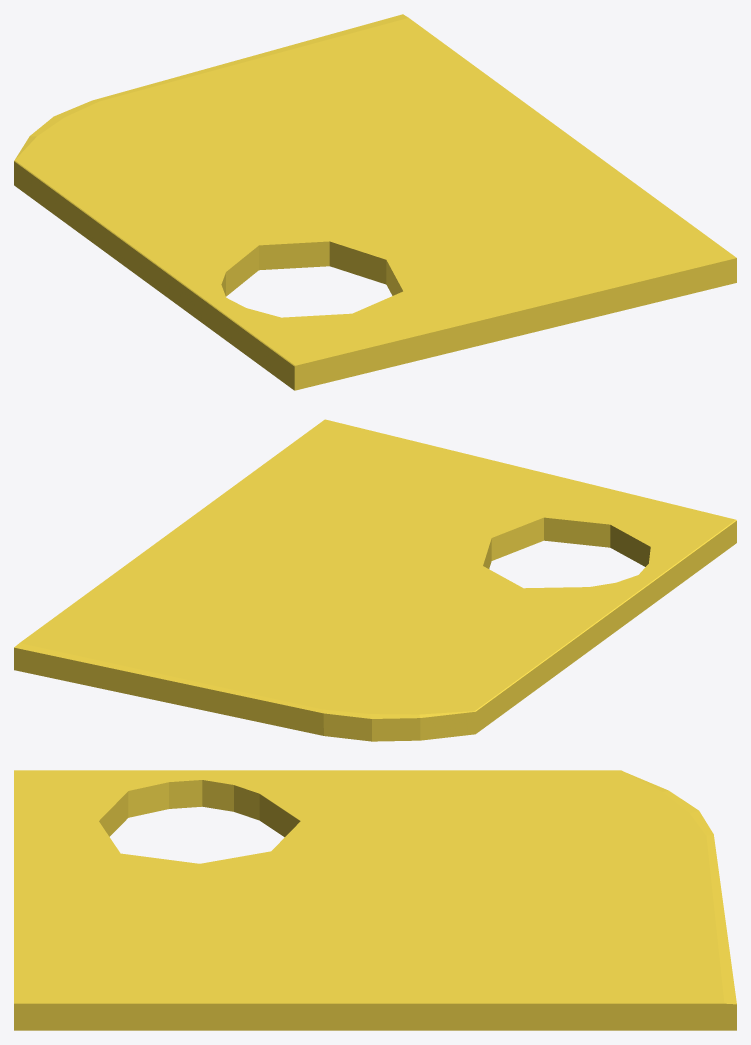
The model's file is gnd_yellow_02.fbx.
3 views of the same model, one above another, from view 1: azimuth 30°, elevation 25°; view 2: azimuth 150°, elevation 25°; view 3: azimuth 270°, elevation 25° (orthographic). The views are drawn at different scales.
Parts seen in each view (by area): view 1: gnd_yellow_02; view 2: gnd_yellow_02; view 3: gnd_yellow_02.
Part boxes in pixels (left/top/right/bottom): gnd_yellow_02: left=14, top=14, right=736, bottom=390; gnd_yellow_02: left=14, top=419, right=736, bottom=741; gnd_yellow_02: left=14, top=770, right=736, bottom=1030.
Bounding box in the file's own units: 7648 × 410 × 10000.
